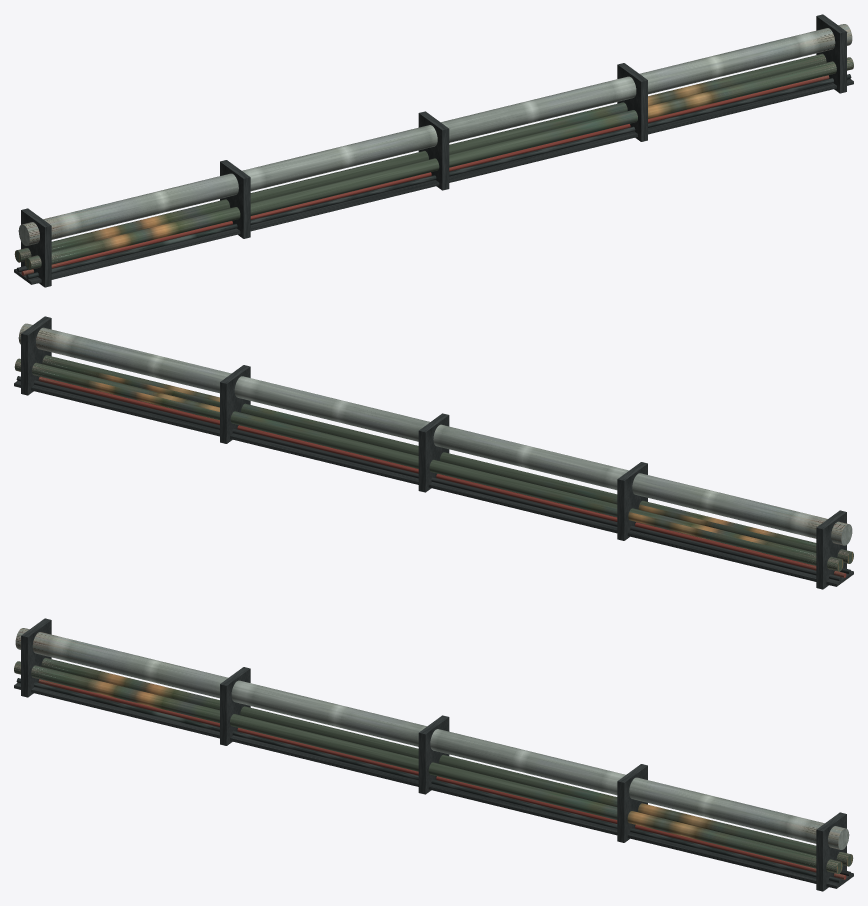
File: pipe_run_6.glb
The picture shows the model from 3 angles, top to bottom: view 1: azimuth 30°, elevation 25°; view 2: azimuth 150°, elevation 25°; view 3: azimuth 330°, elevation 25°; orthographic projection.
Parts seen in each view (by area): view 1: PipeRun6; view 2: PipeRun6; view 3: PipeRun6.
Part boxes in pixels (bbox=[...]): PipeRun6: bbox=[14, 14, 853, 287]; PipeRun6: bbox=[14, 316, 853, 589]; PipeRun6: bbox=[14, 618, 853, 891].
Bounding box in the file's own units: 6 × 0.42 × 0.3.
Materials: 1 (1 with a texture image).
